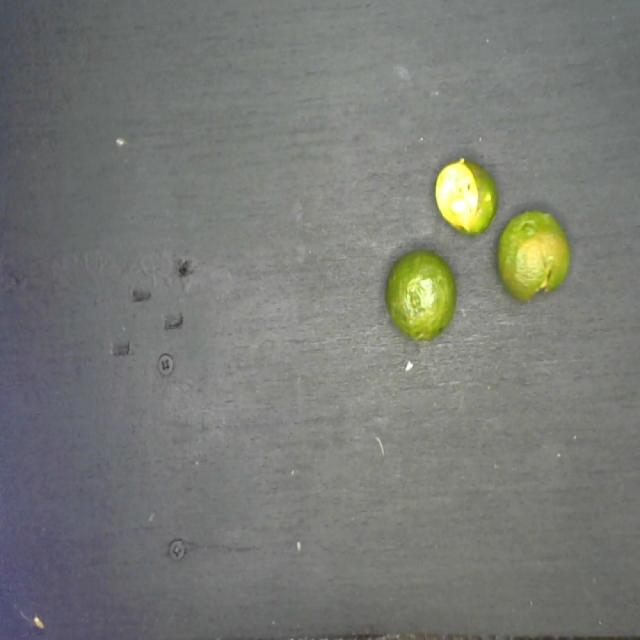biodegradable: (383, 145, 576, 344)
